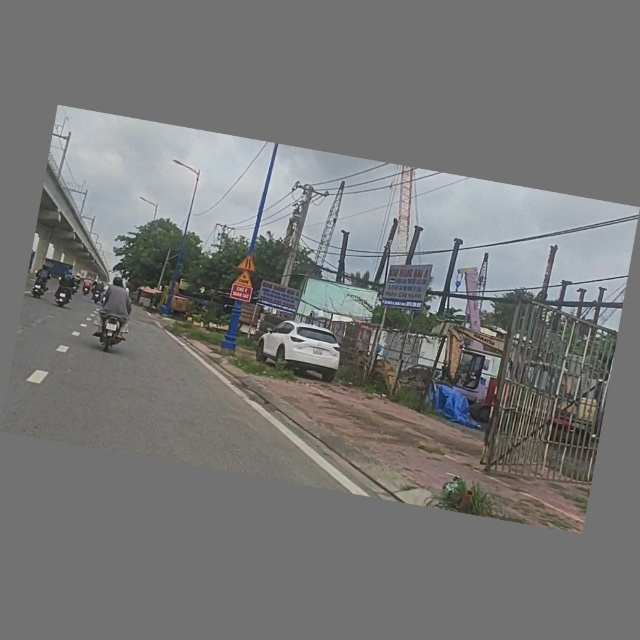W.203c: (237, 254, 259, 272)
W.245a: (232, 269, 257, 289)
